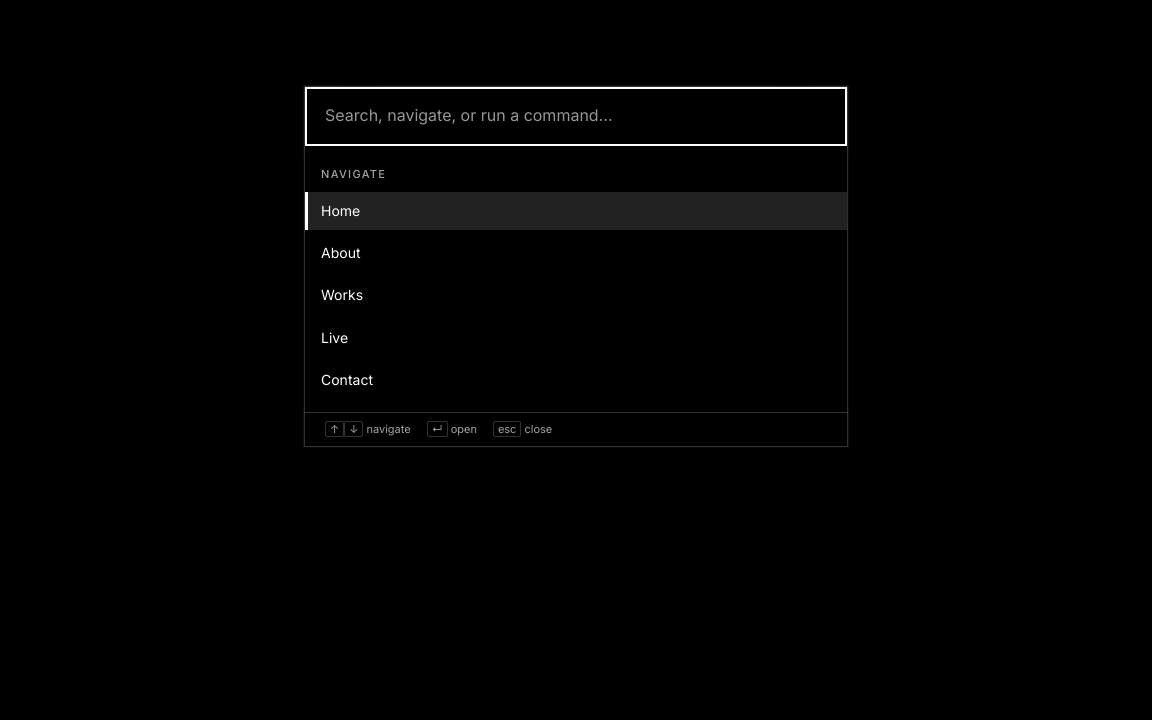
Test: CommandPalette › shows a more-results footer when matches exceed the visible cap
The width and height of the screenshot is (1152, 720).
Type "concerts" into the dropdown with class "command-palette__input" at point(576, 117), box 305,87 -> 847,146
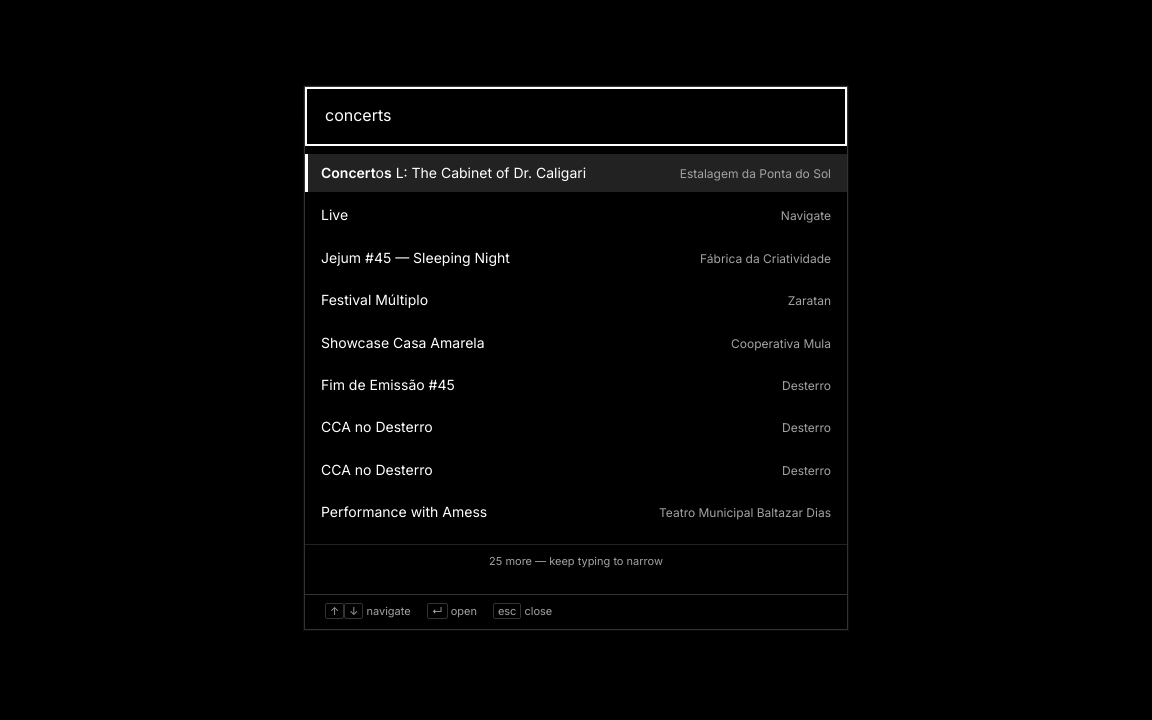
Expected: the text "25 more — keep typing to narrow" is shown, 305,544 -> 847,578
Expected: the text with class "command-palette__more" shows "more", 489,554 -> 663,568
